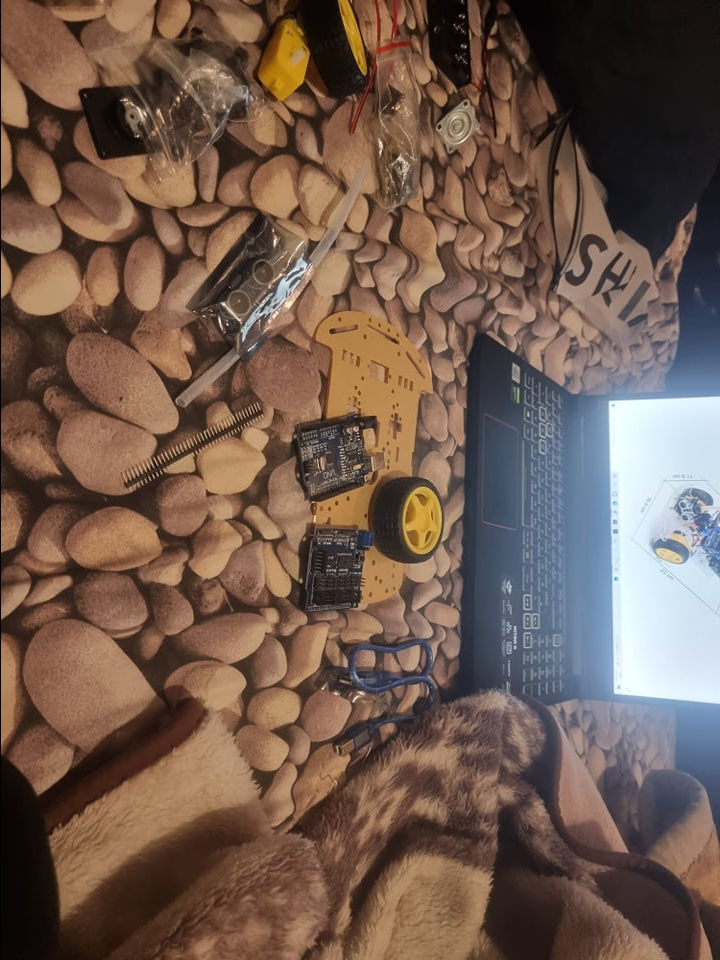5V EXPANSION: (298, 525, 374, 613)
BATTERY BOX: (428, 1, 474, 86)
SENSOR: (215, 259, 278, 320), (677, 499, 692, 523)
UNO R3: (294, 416, 385, 503)
